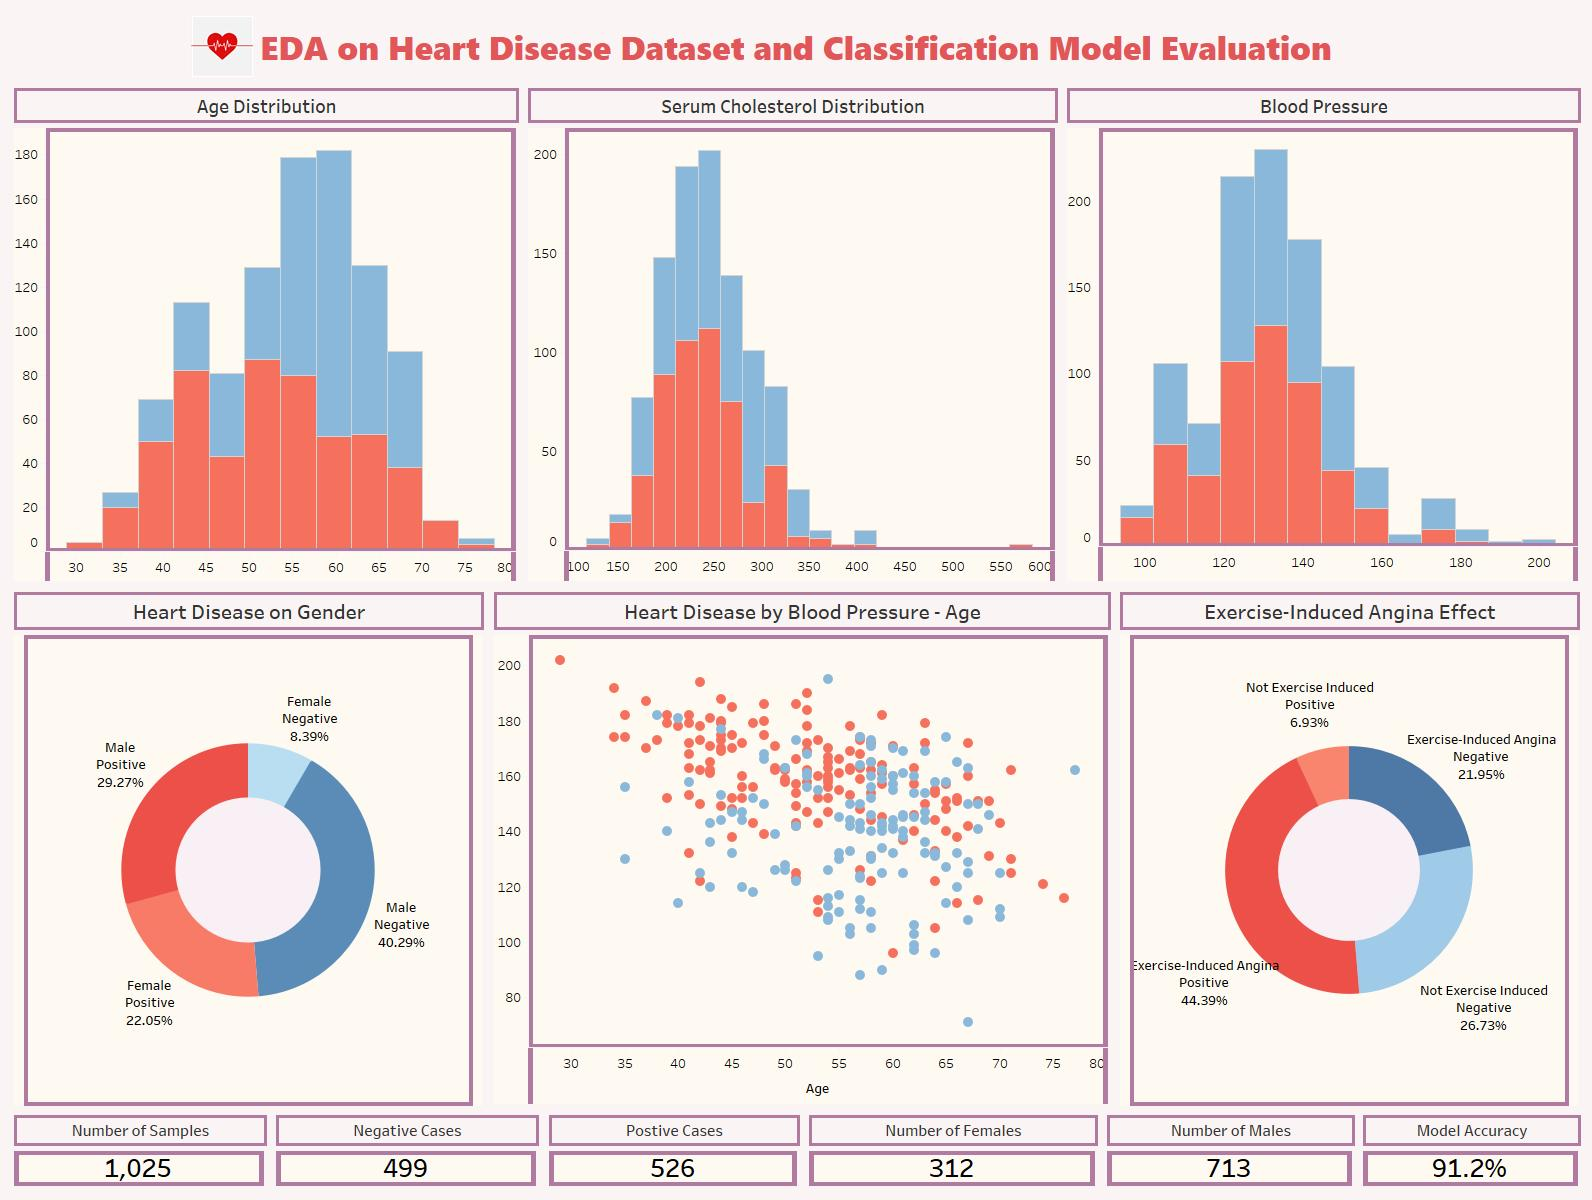

The dashboard page shown, as its layout file describes it:
{"tool":"tableau","page":{"name":"EDA and Model evaluation","canvas":[1000,1000],"units":"permille","ordinal":0},"visuals":[{"type":"title","box":[5,6.7,989.9,63.3]},{"type":"image","param":"C:/Users/Olatunde Adekola/Downloads/heart_image.png","box":[119.7,12.5,131.9,51.7]},{"type":"worksheet","title":"Age Distribution","mark":"Automatic","rows":["age"],"cols":["Age (bin)"],"box":[5,70,322.6,420.3]},{"type":"worksheet","title":"Serum Cholesterol","mark":"Automatic","rows":["chol"],"cols":["Chol (bin)"],"box":[327.6,70,338.7,420.3]},{"type":"worksheet","title":"Blood Pressure","mark":"Automatic","rows":["trestbps"],"cols":["Trestbps (bin)"],"box":[666.4,70,328.6,420.3]},{"type":"worksheet","title":"Heart Disease on Gender","mark":"Pie","rows":["Calculation_2210141566811770885","Calculation_2210141566811770885"],"box":[5,490.3,301.5,435.9]},{"type":"worksheet","title":"Blood Pressure -Age","mark":"Circle","rows":["thalach"],"cols":["age"],"box":[306.5,490.3,393.4,435.9]},{"type":"worksheet","title":"Execise-Induced Angina","mark":"Pie","rows":["Calculation_2210141566811770885","Calculation_2210141566811770885"],"box":[700,490.3,295,435.9]},{"type":"worksheet","title":"Number of Samples","mark":"Automatic","box":[5,926.2,164.8,67.1]},{"type":"worksheet","title":"Negative Cases","mark":"Automatic","box":[169.9,926.2,171,67.1]},{"type":"worksheet","title":"Positive Cases","mark":"Automatic","box":[340.9,926.2,163.5,67.1]},{"type":"worksheet","title":"Females","mark":"Automatic","box":[504.3,926.2,187.1,67.1]},{"type":"worksheet","title":"Males","mark":"Automatic","box":[691.4,926.2,161.2,67.1]},{"type":"worksheet","title":"Accuracy","mark":"Automatic","box":[852.6,926.2,142.3,67.1]}]}

Visuals, with their boxes on the dashboard's canvas, which has no fixed pixel size, in thousandths of its width and height (x1, y1, x2, y2). These are canvas units, not pixel positions in the 1592x1200 screenshot, which may show the page scaled, cropped or inside an application window:
title: detection(5, 7, 995, 70)
image: detection(120, 12, 252, 64)
"Age Distribution" worksheet: detection(5, 70, 328, 490)
"Serum Cholesterol" worksheet: detection(328, 70, 666, 490)
"Blood Pressure" worksheet: detection(666, 70, 995, 490)
"Heart Disease on Gender" worksheet (Pie marks): detection(5, 490, 306, 926)
"Blood Pressure -Age" worksheet (Circle marks): detection(306, 490, 700, 926)
"Execise-Induced Angina" worksheet (Pie marks): detection(700, 490, 995, 926)
"Number of Samples" worksheet: detection(5, 926, 170, 993)
"Negative Cases" worksheet: detection(170, 926, 341, 993)
"Positive Cases" worksheet: detection(341, 926, 504, 993)
"Females" worksheet: detection(504, 926, 691, 993)
"Males" worksheet: detection(691, 926, 853, 993)
"Accuracy" worksheet: detection(853, 926, 995, 993)
